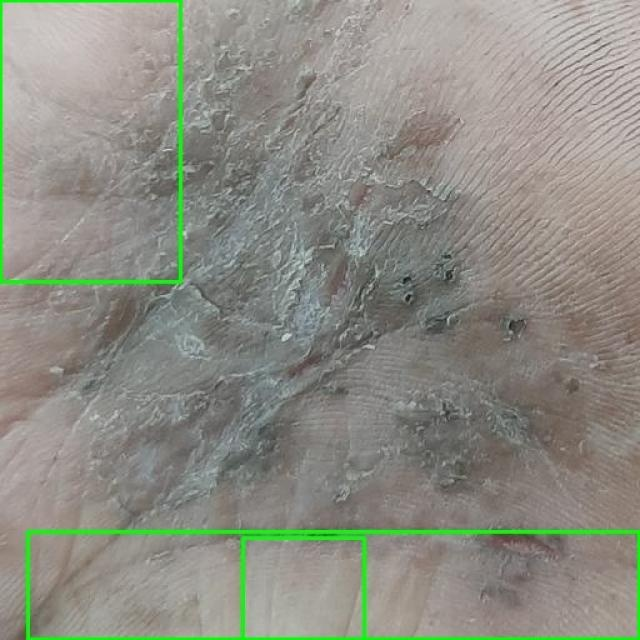Eczema: (28, 531, 639, 639), (0, 0, 180, 281), (242, 538, 364, 639)
